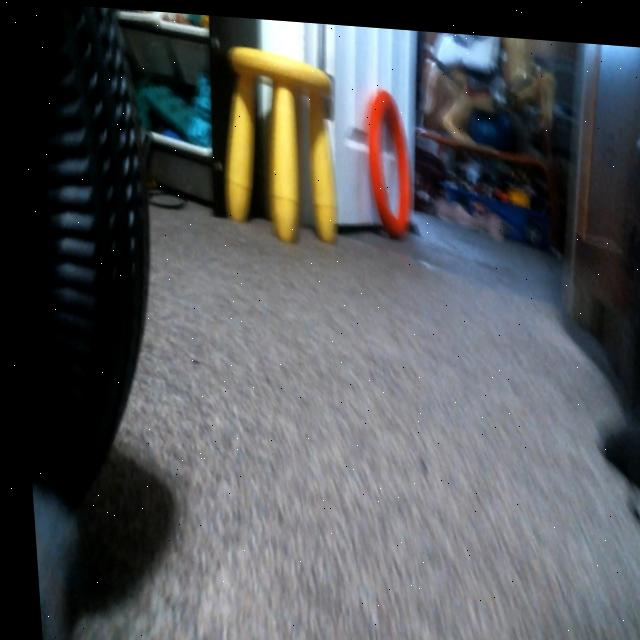note: (364, 86, 412, 237)
